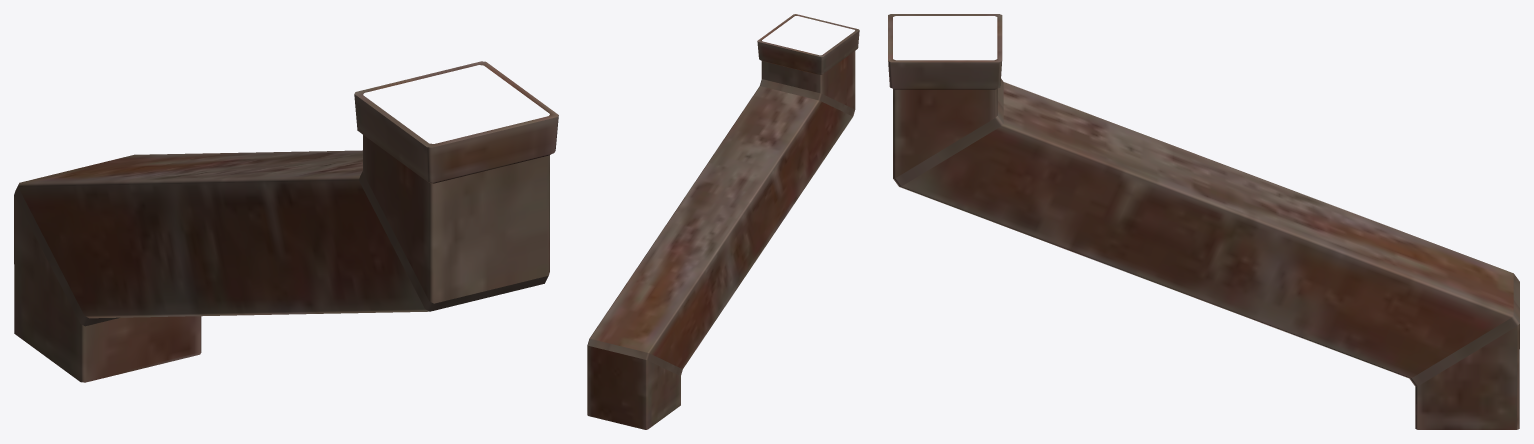
File: gutter_overhang_500.glb
3 views of the same model, side by side, from view 1: azimuth 30°, elevation 25°; view 2: azimuth 150°, elevation 25°; view 3: azimuth 270°, elevation 25° (orthographic). The views are drawn at different scales.
Visible parts, largest first — view 1: gutter_overhang_500; view 2: gutter_overhang_500; view 3: gutter_overhang_500.
Boxes of the visible parts, bbox=[...] form: gutter_overhang_500: bbox=[14, 61, 558, 382]; gutter_overhang_500: bbox=[587, 14, 859, 429]; gutter_overhang_500: bbox=[888, 14, 1519, 429].
Bounding box in the file's own units: 0.1092 × 0.3906 × 0.6048.
1 material, 1 textured.
